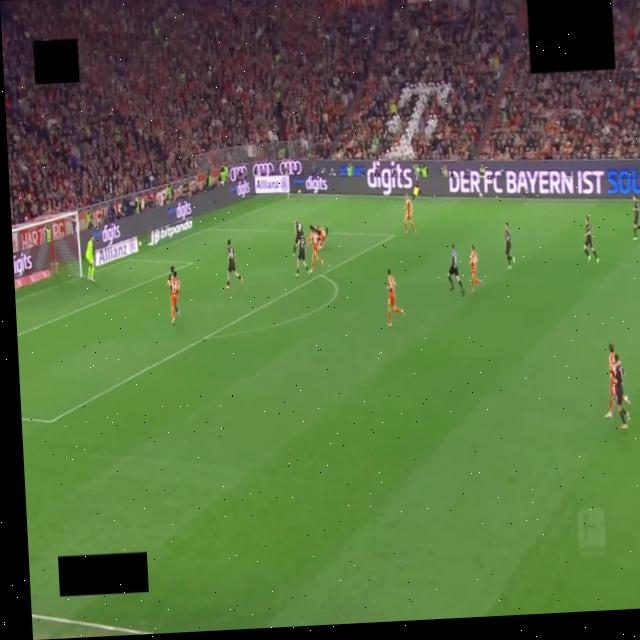player: (615, 354, 629, 429), (388, 269, 404, 327), (605, 344, 616, 418), (226, 239, 242, 289), (307, 225, 323, 274), (606, 344, 616, 418), (584, 216, 599, 263), (296, 231, 309, 276), (504, 222, 516, 270), (169, 272, 180, 324), (470, 245, 482, 292), (404, 195, 416, 234), (85, 235, 94, 282), (293, 219, 303, 255), (315, 224, 328, 249), (633, 196, 639, 240), (167, 266, 176, 287)
referee: (447, 244, 464, 296)
